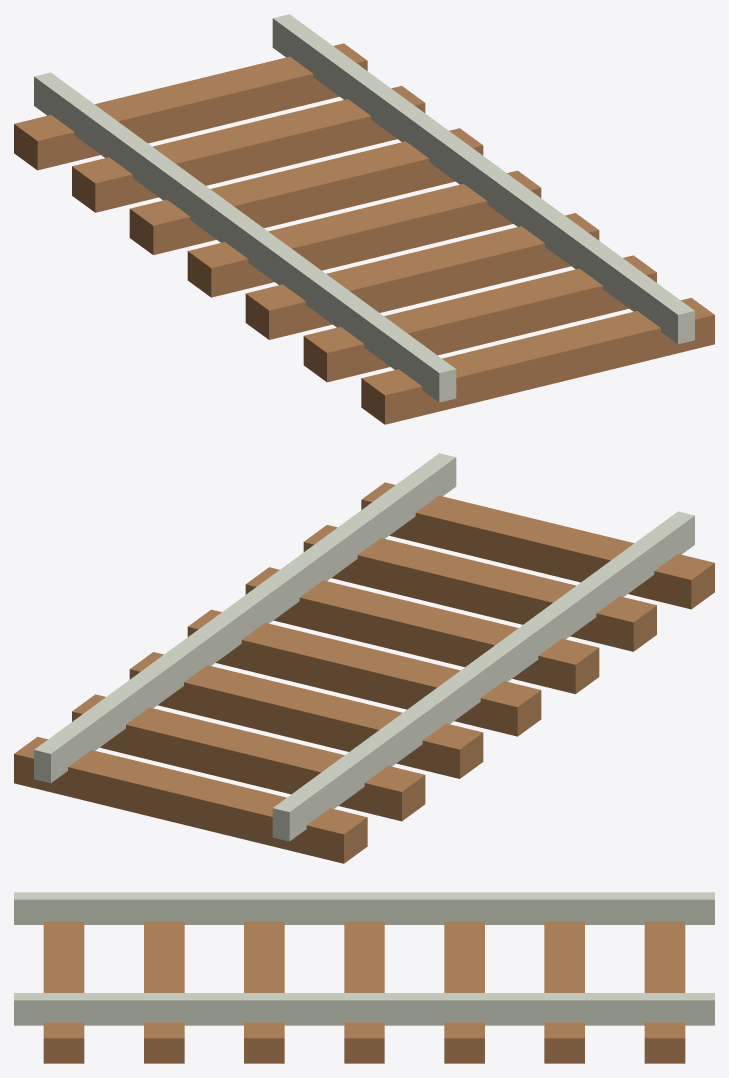
Rendered from rail-vertical.glb.
The picture shows the model from 3 angles, top to bottom: view 1: azimuth 30°, elevation 25°; view 2: azimuth 150°, elevation 25°; view 3: azimuth 270°, elevation 25°; orthographic projection. The views are drawn at different scales.
Parts seen in each view (by area): view 1: Mesh_rail-vertical_wood, Mesh_rail-vertical_rail; view 2: Mesh_rail-vertical_wood, Mesh_rail-vertical_rail; view 3: Mesh_rail-vertical_rail, Mesh_rail-vertical_wood.
Part boxes in pixels (x1=…): Mesh_rail-vertical_wood: x1=14, y1=43, x2=714, y2=424; Mesh_rail-vertical_rail: x1=34, y1=14, x2=694, y2=402; Mesh_rail-vertical_wood: x1=14, y1=482, x2=714, y2=863; Mesh_rail-vertical_rail: x1=34, y1=453, x2=694, y2=841; Mesh_rail-vertical_rail: x1=14, y1=892, x2=714, y2=1025; Mesh_rail-vertical_wood: x1=43, y1=921, x2=685, y2=1063.
Bounding box in the file's own units: 0.47 × 0.075 × 1.
